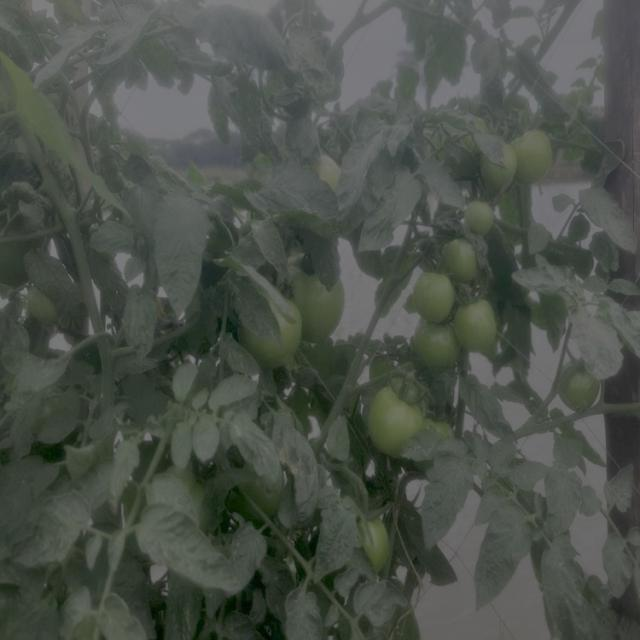tomato: (354, 378, 433, 456), (294, 261, 348, 339), (245, 300, 307, 362), (350, 510, 404, 576), (247, 450, 302, 508), (555, 354, 603, 415), (453, 294, 503, 352), (408, 324, 462, 377), (411, 266, 457, 328), (442, 237, 490, 287), (516, 123, 554, 183), (486, 129, 521, 187), (468, 190, 503, 235)
